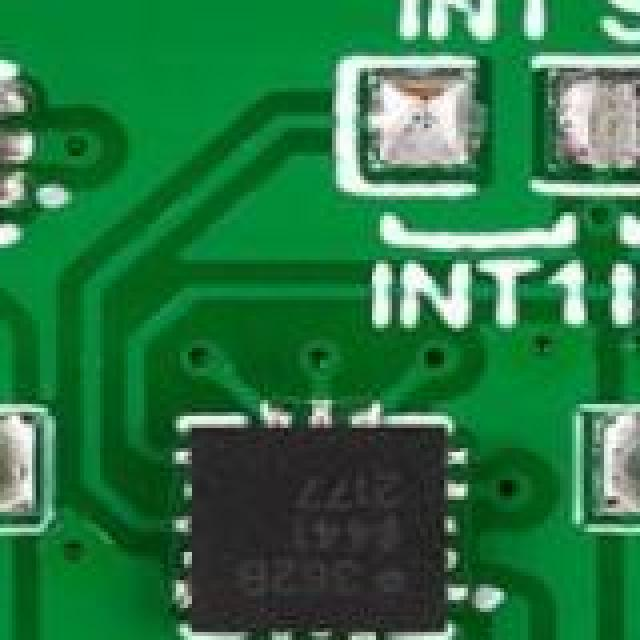IC: (184, 432, 472, 636), (0, 80, 28, 232)
capacitor: (636, 416, 640, 516)
resistor: (628, 84, 640, 180)
